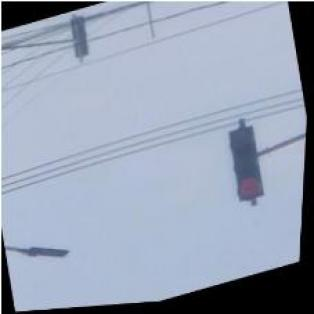Semaforo Rojo: (226, 128, 268, 208)
